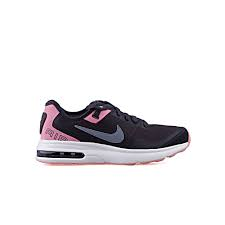nike: (71, 123, 126, 145)
